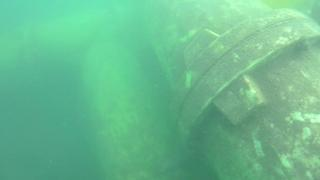pipe: (138, 1, 320, 180), (73, 46, 198, 180), (1, 8, 137, 57)
